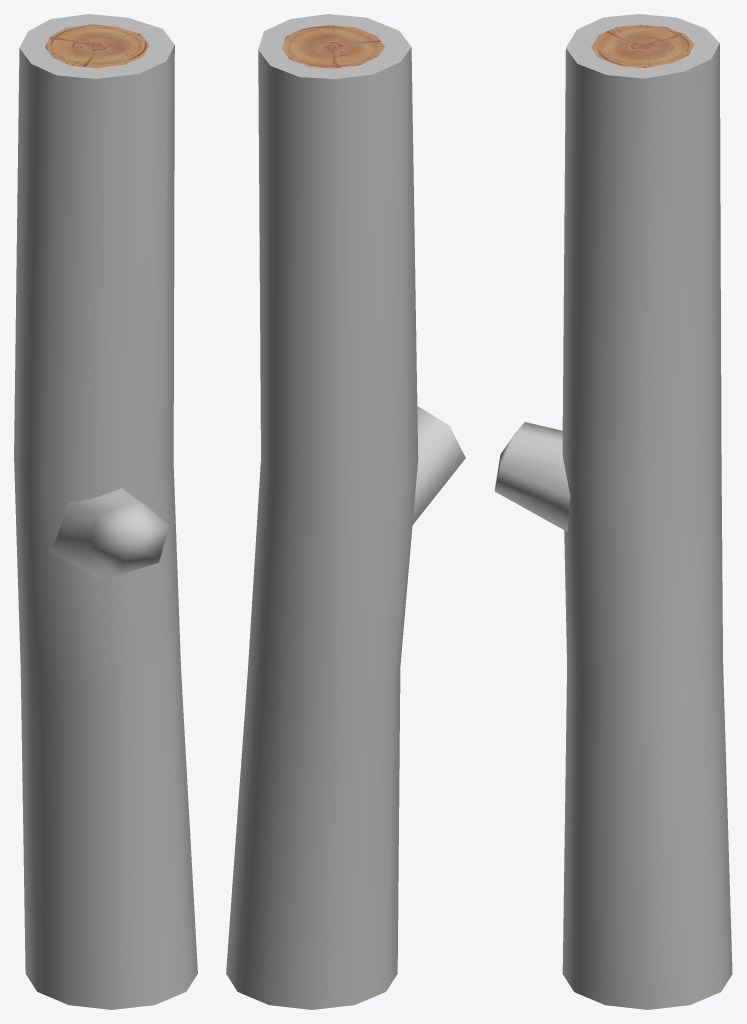
File: obj_harvests_trees_birch02_p02.fbx
The picture shows the model from 3 angles, left to right: view 1: azimuth 30°, elevation 25°; view 2: azimuth 150°, elevation 25°; view 3: azimuth 270°, elevation 25°; orthographic projection.
Visible parts, largest first — view 1: chunk02; view 2: chunk02; view 3: chunk02.
Part boxes in pixels (x1,y1,x2,y2): chunk02: (14,14,197,1009); chunk02: (226,14,465,1009); chunk02: (494,14,732,1009).
Bounding box in the file's own units: 1.48 × 8 × 1.88.
